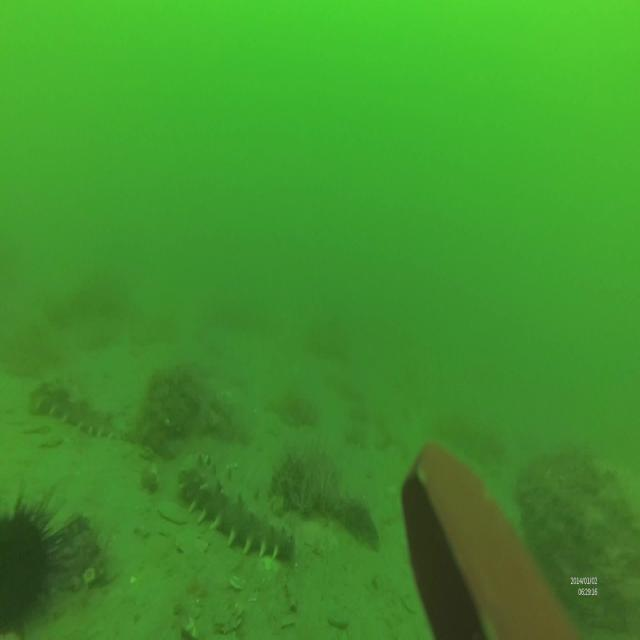echinus: (0, 486, 71, 640)
holothurian: (180, 469, 293, 563), (24, 378, 132, 444)
